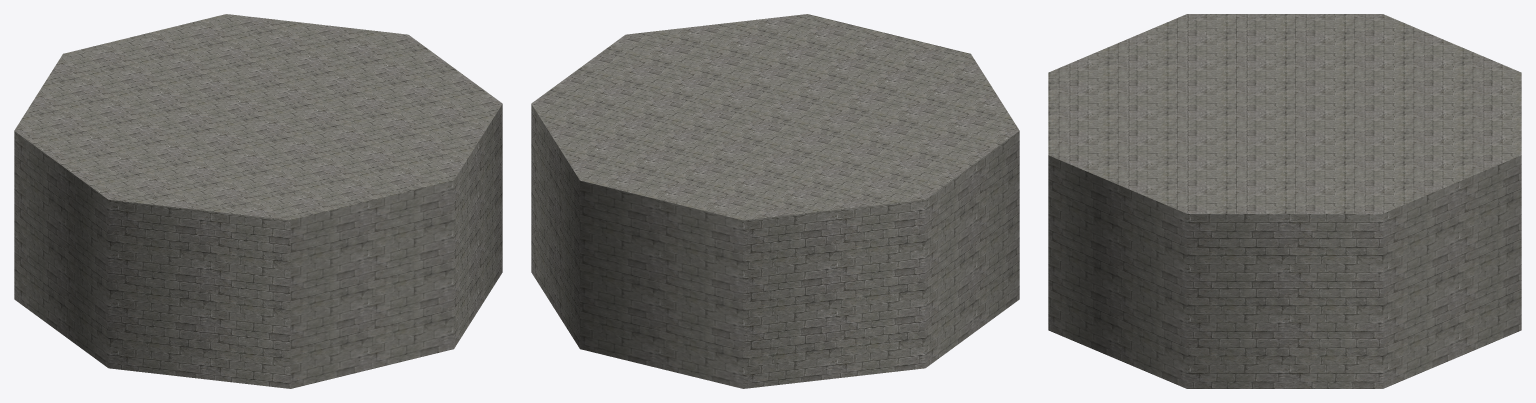
Rendered from unity_dungeon_road02.FBX.
3 views of the same model, side by side, from view 1: azimuth 30°, elevation 25°; view 2: azimuth 150°, elevation 25°; view 3: azimuth 270°, elevation 25° (orthographic). The views are drawn at different scales.
Parts seen in each view (by area): view 1: unity_dungeon_road02; view 2: unity_dungeon_road02; view 3: unity_dungeon_road02.
Boxes of the visible parts, x1=… form: unity_dungeon_road02: x1=14, y1=14, x2=502, y2=388; unity_dungeon_road02: x1=531, y1=14, x2=1019, y2=388; unity_dungeon_road02: x1=1048, y1=14, x2=1521, y2=388.
Size of the model in its own units: 23.6 by 9.64 by 23.6.
